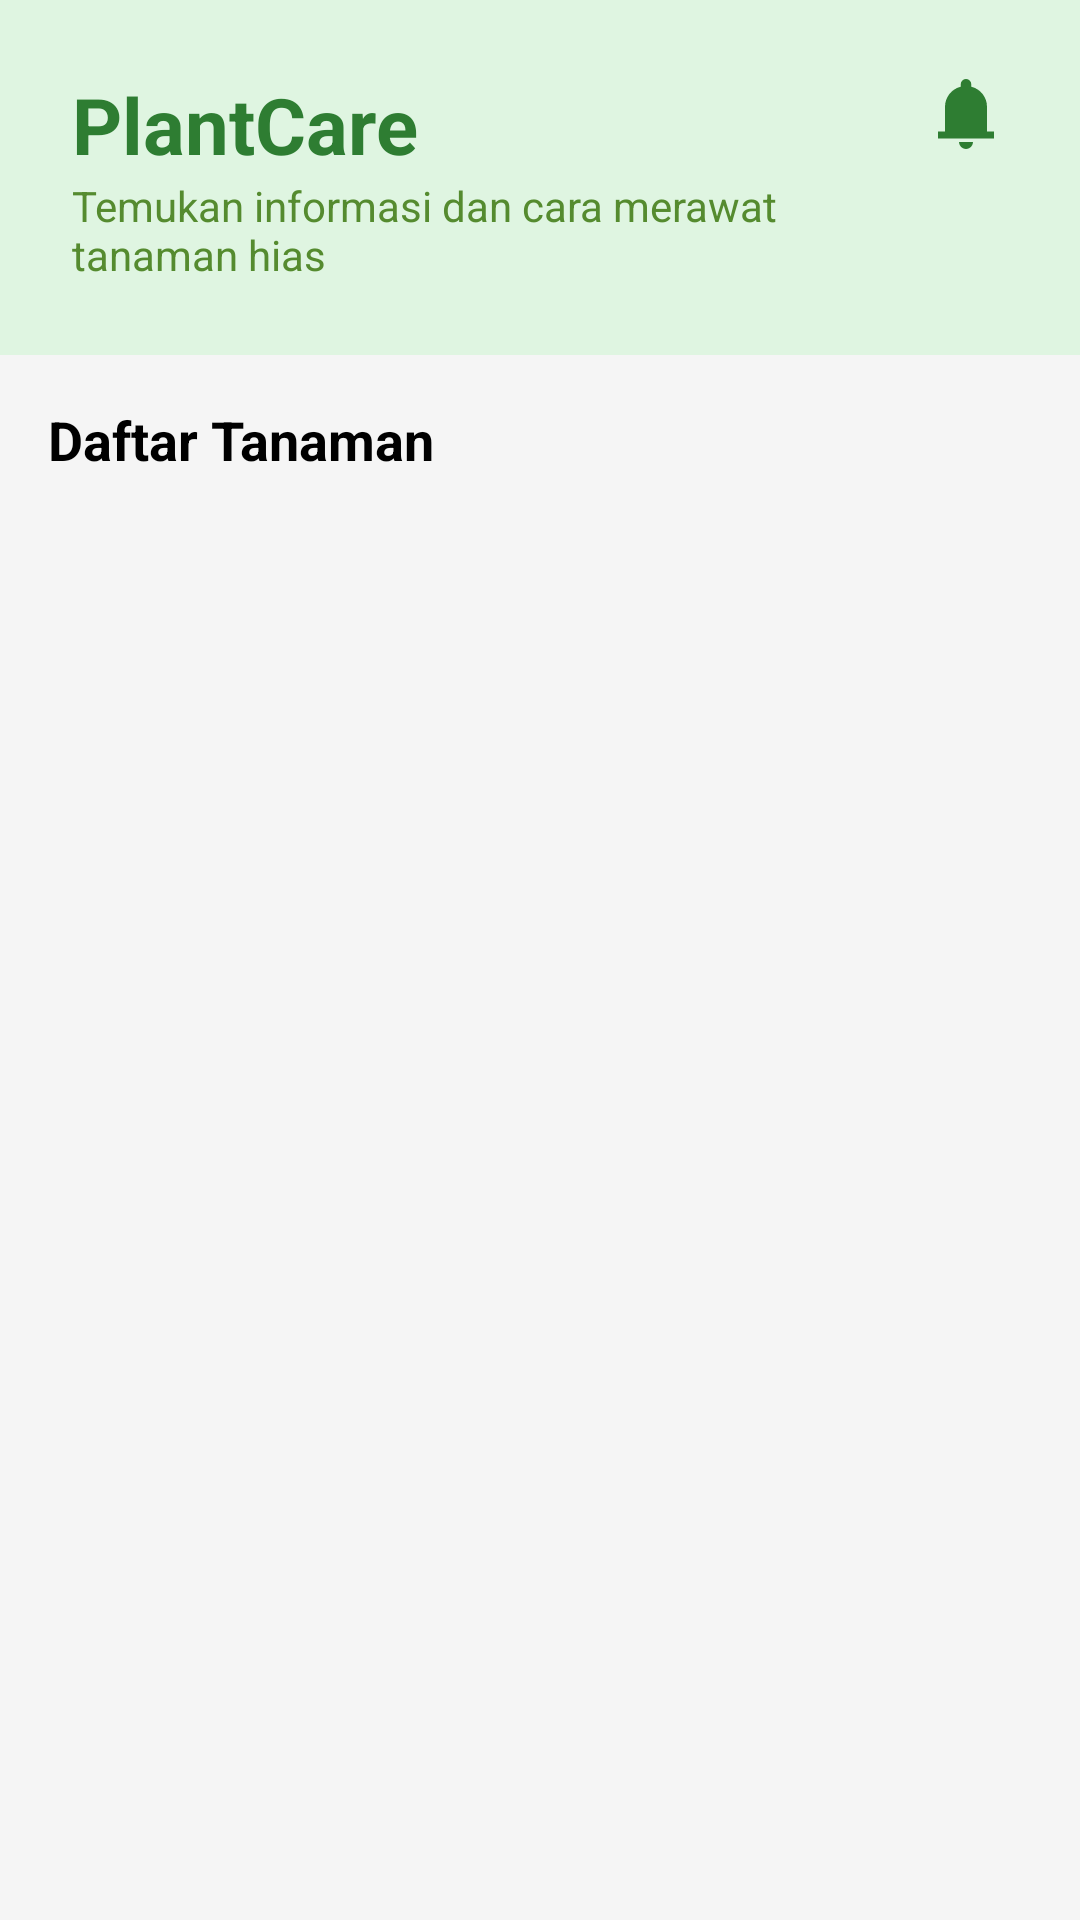

Point at icon controls on the screen. Image size 1080*1920, points as [x,y].
notification: [966,114]
